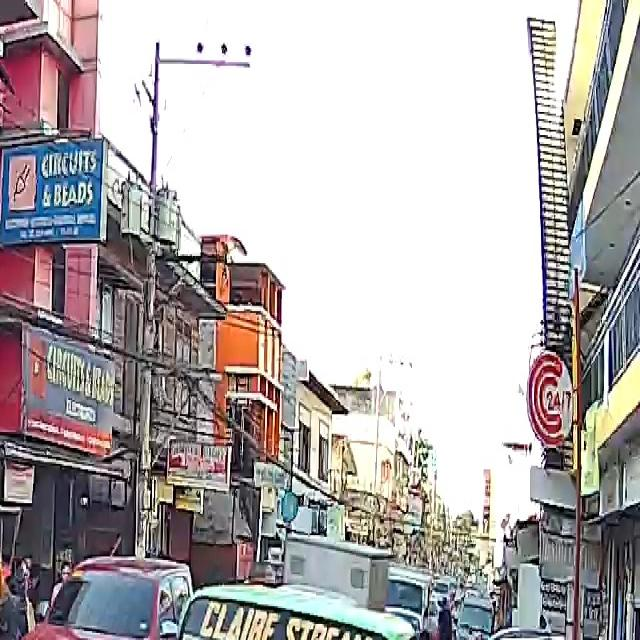car: (0, 554, 189, 640), (0, 535, 19, 640), (464, 629, 640, 640)
